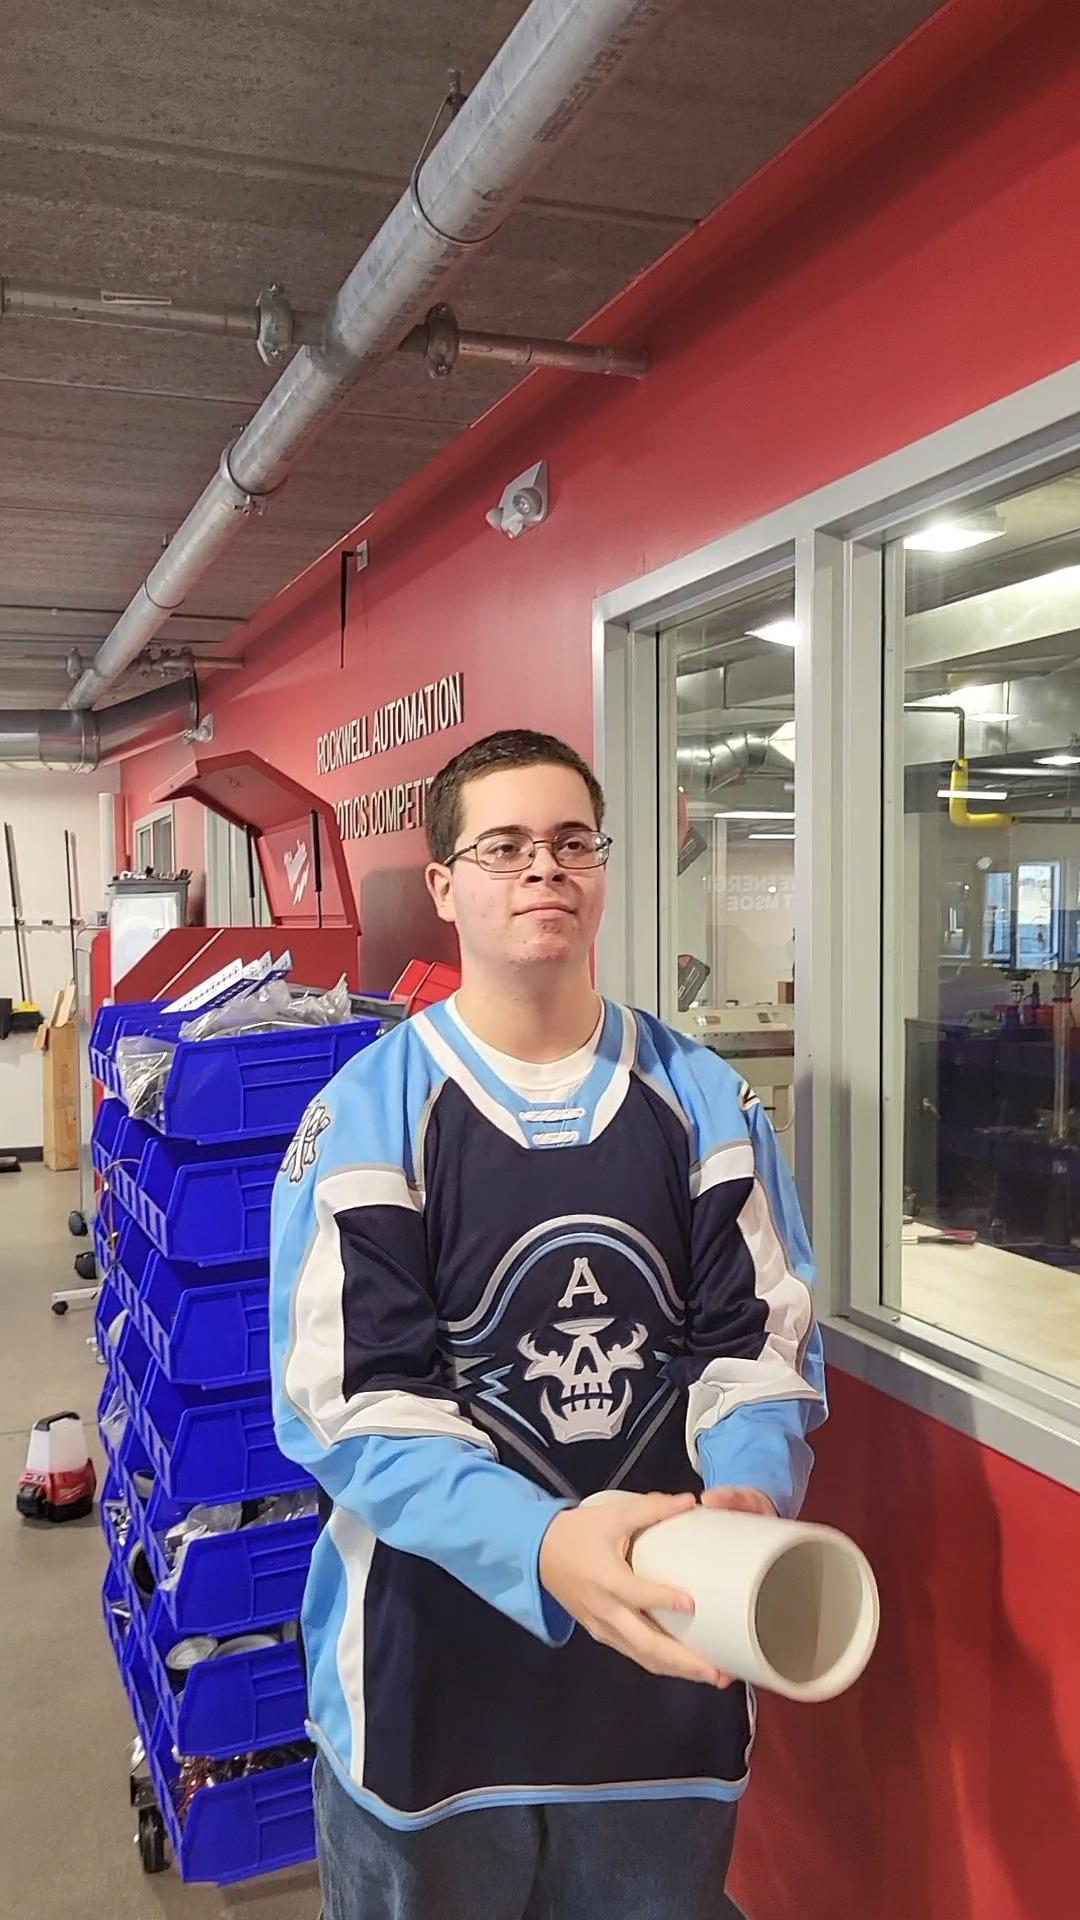coral: (604, 1494, 890, 1717)
